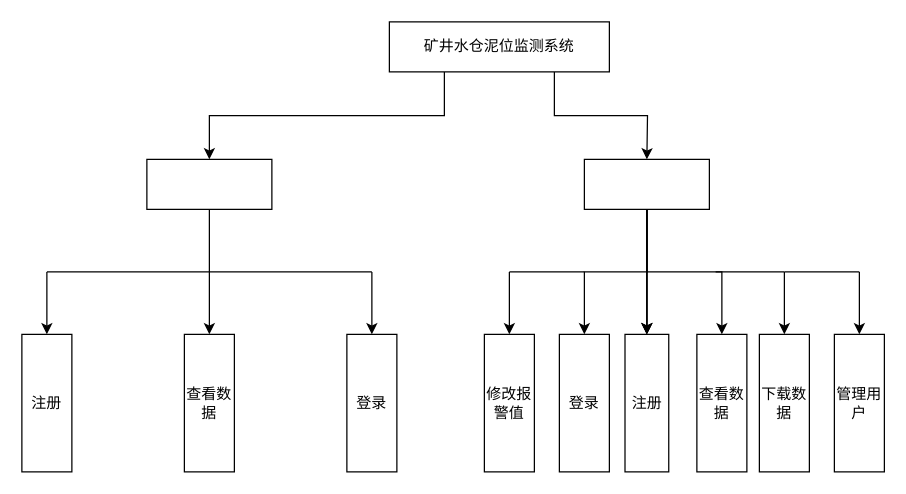
This 906x494 diagram has some shape labels left out. Here are the shapes that lost their labels. From the top down, the centre of each, then its label:
(209,183): 用户
(646,183): 管理员
